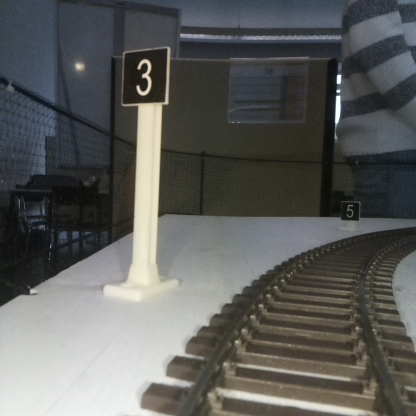black-info-3: (122, 49, 168, 296)
black-stop-5: (341, 201, 359, 228)
